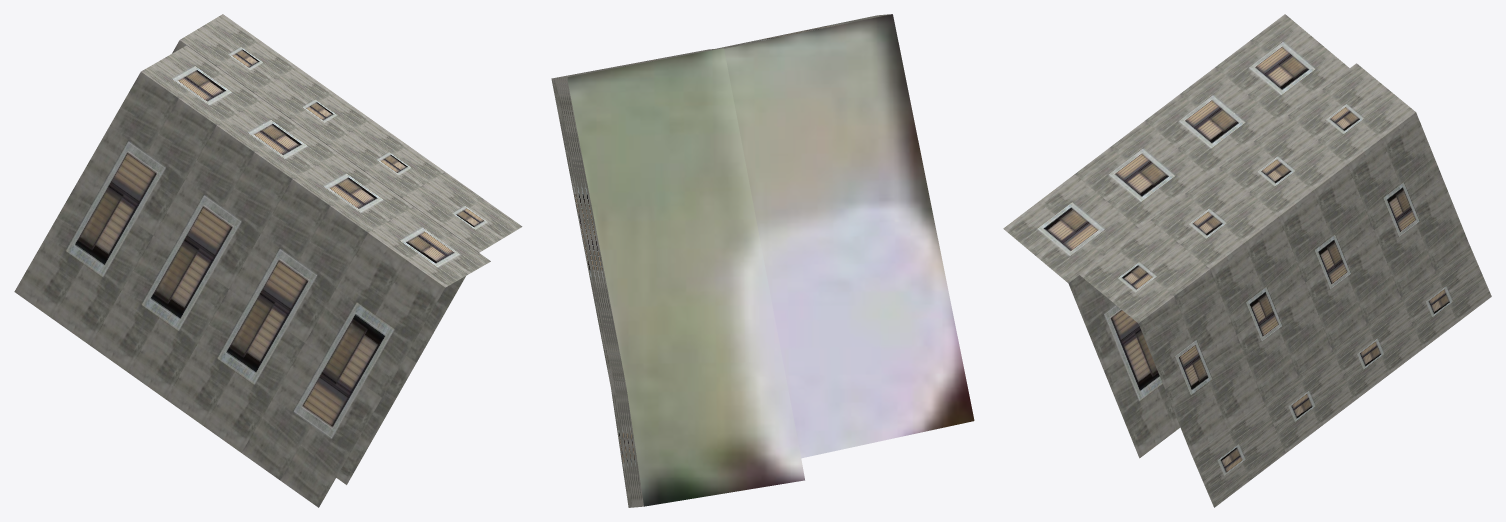
The picture shows the model from 3 angles, left to right: view 1: azimuth 30°, elevation 25°; view 2: azimuth 150°, elevation 25°; view 3: azimuth 270°, elevation 25°; orthographic projection. The views are drawn at different scales.
Bounding box in the file's own units: 15.57 × 15.43 × 17.35.
8 materials, 8 textured.
